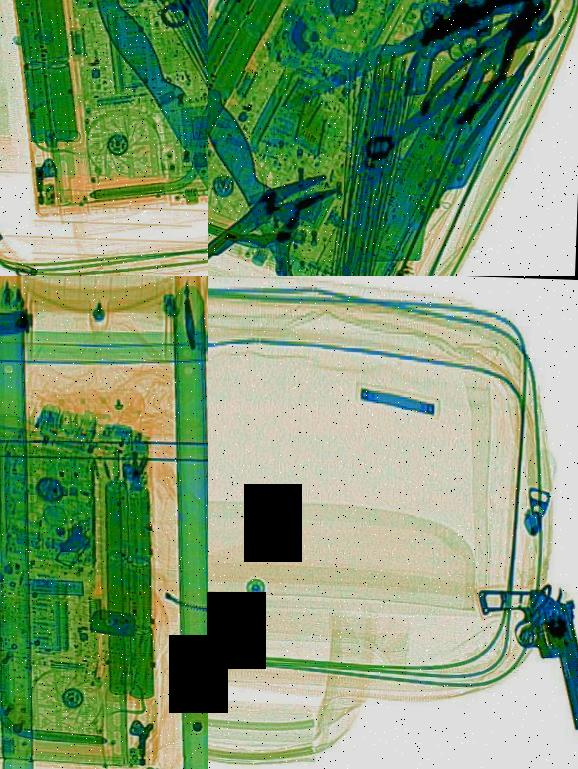Gun: (383, 0, 567, 101), (476, 565, 578, 739), (0, 276, 39, 361)
Knife: (282, 0, 550, 116), (79, 0, 208, 233), (208, 82, 338, 276)
Pliers: (412, 0, 566, 140)
Wrench: (354, 0, 562, 173)
